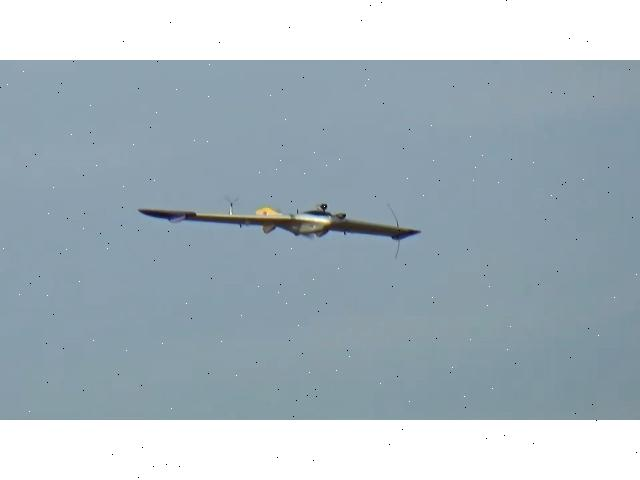Anti-Drone: (138, 202, 422, 242)
